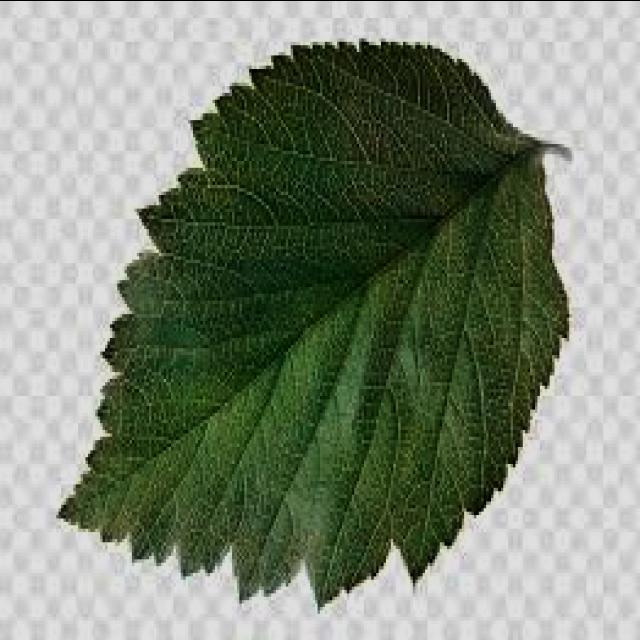leaf: (56, 38, 573, 610)
